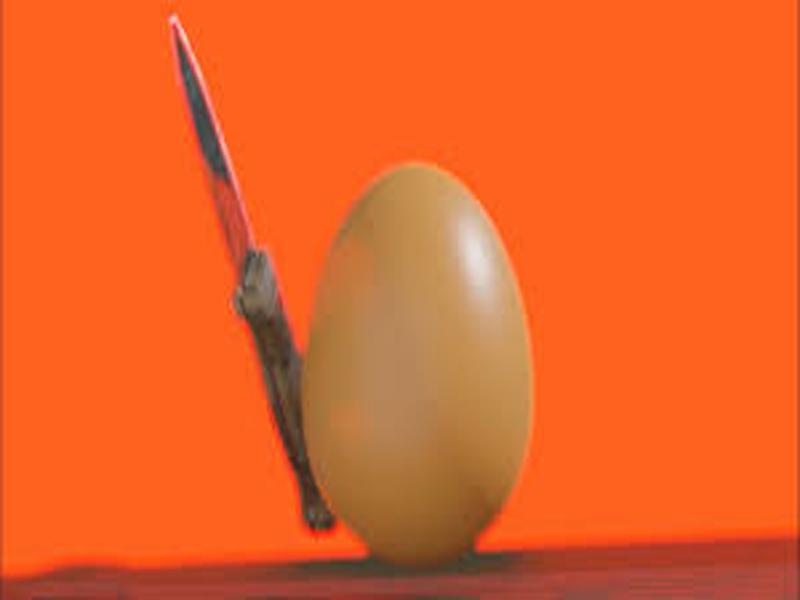Eggs: (303, 168, 530, 557)
